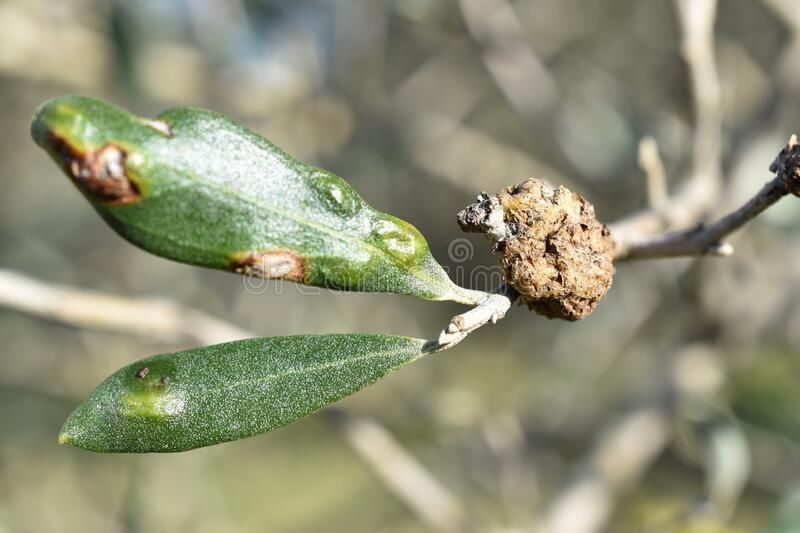Tuberculosis: (456, 173, 619, 324)
